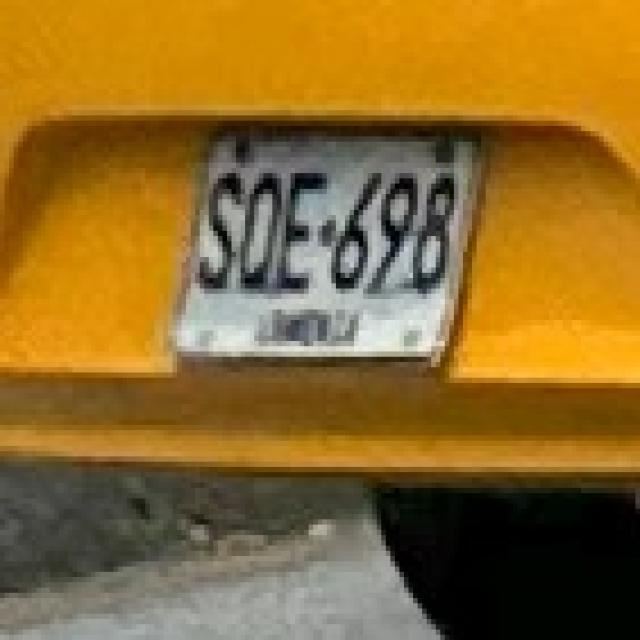number plate: (172, 126, 472, 351)
